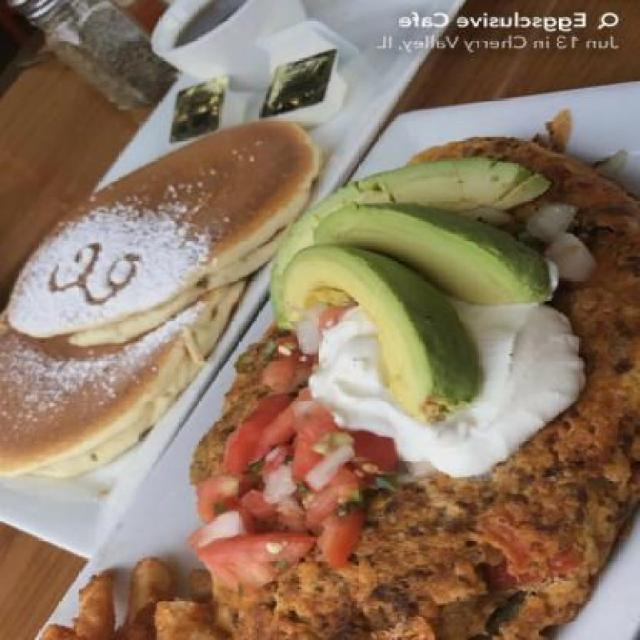french fries: (45, 538, 202, 640)
omelette: (209, 115, 636, 638)
pancakes: (1, 113, 313, 490)
